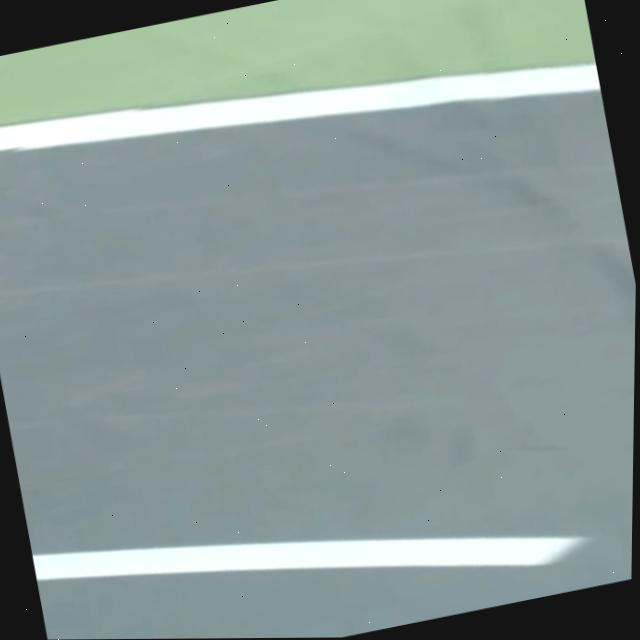center: (32, 538, 583, 581)
right: (0, 65, 601, 152)
